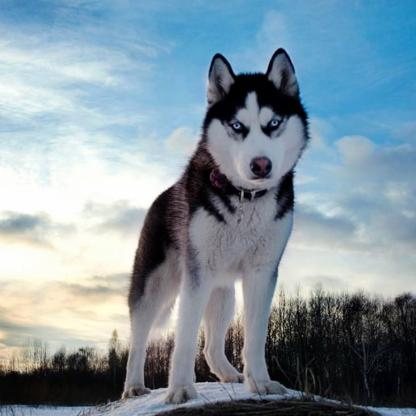husky: (124, 47, 312, 408)
